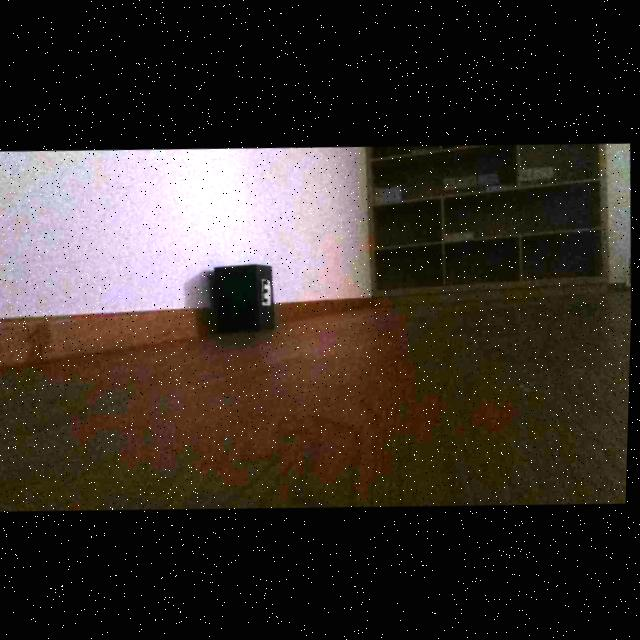E: (264, 279, 270, 301)
